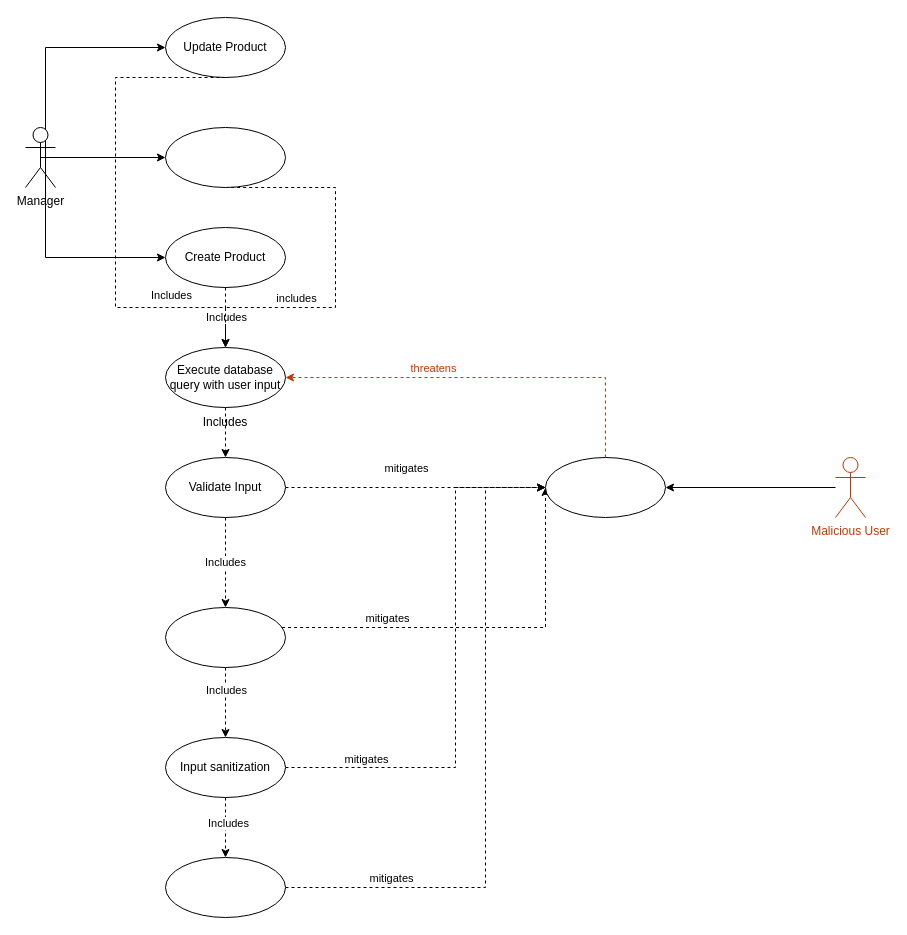
Some shapes in this 907 by 935 pixel diagram are drawn without their labels. The centre of each missing label's shape, as x and y in pixels:
"Log requests" belongs at (225,887).
"Parameterized queries" belongs at (225,637).
"Search Product by name" belongs at (225,157).
"SQL/NoSQL Injection" belongs at (605,487).
